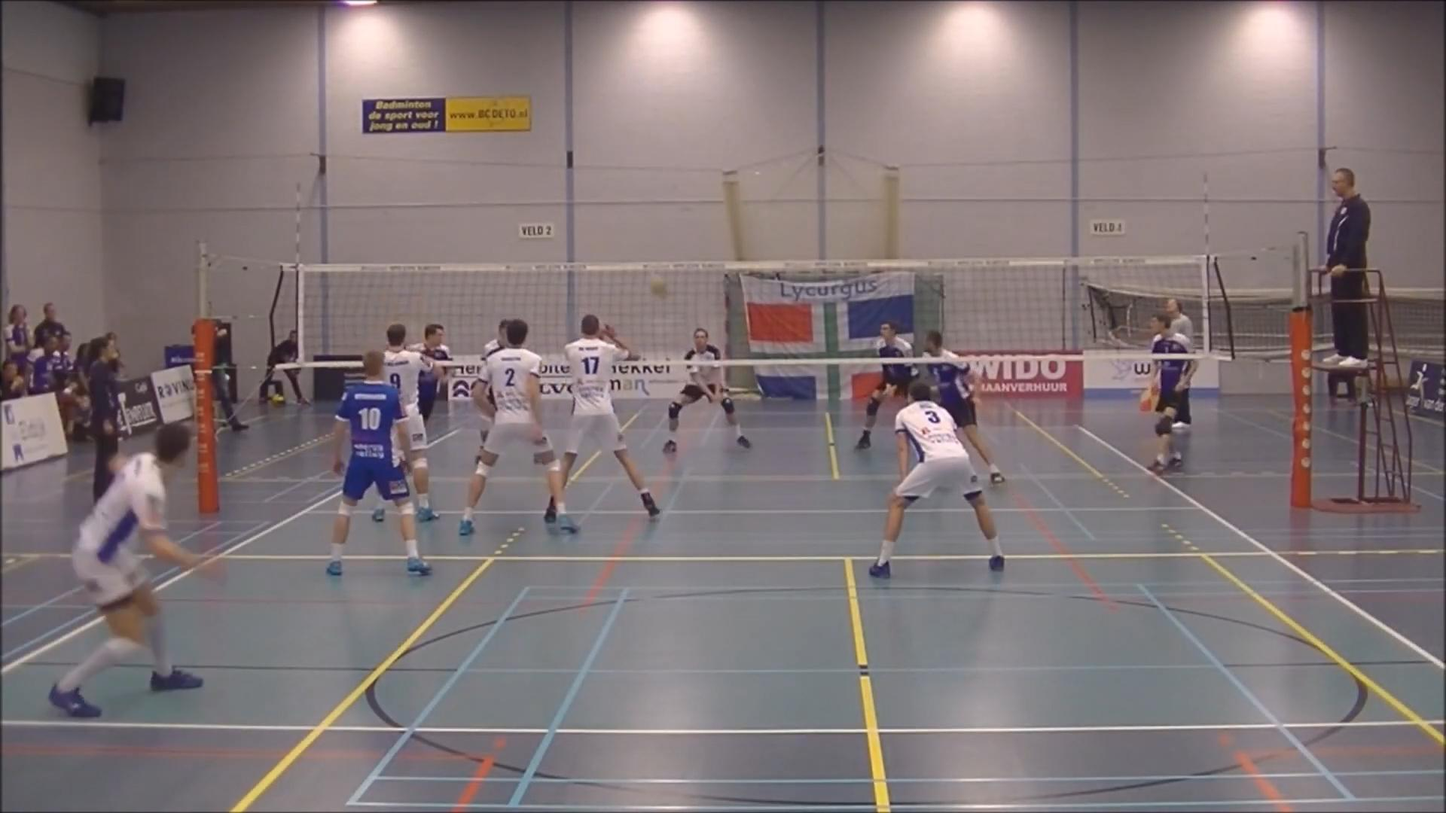Player: (49, 424, 218, 717), (869, 381, 1004, 578), (459, 319, 578, 535), (327, 351, 431, 575), (562, 314, 659, 516), (923, 330, 1004, 483), (384, 323, 435, 521), (669, 327, 751, 448), (856, 321, 915, 449), (1149, 358, 1195, 473), (413, 323, 451, 423), (482, 318, 509, 363)
